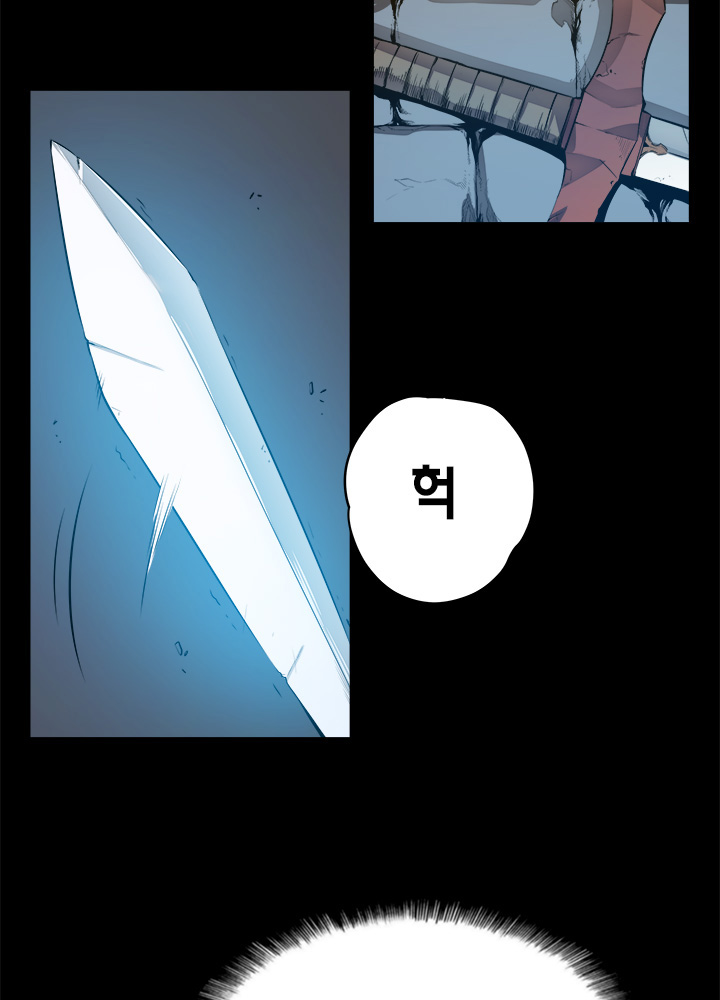dialog box: (319, 378, 564, 625)
text: (387, 445, 480, 537)
